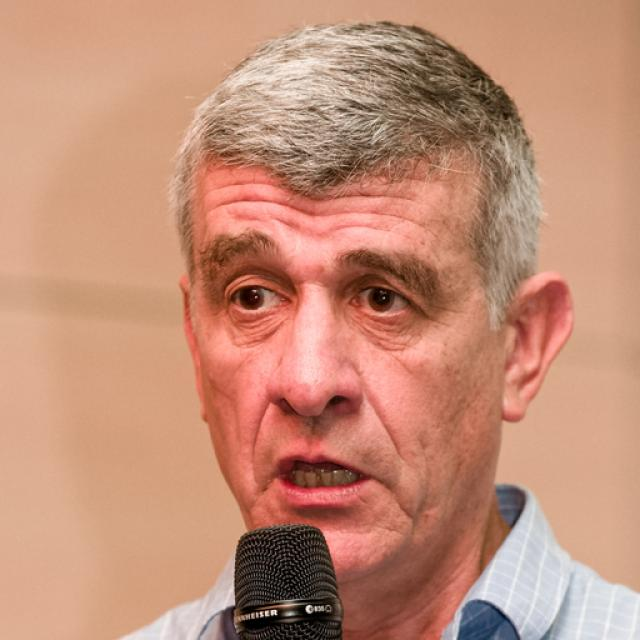Acne: (217, 190, 425, 232), (365, 385, 407, 465), (331, 218, 410, 245), (262, 212, 300, 231)
